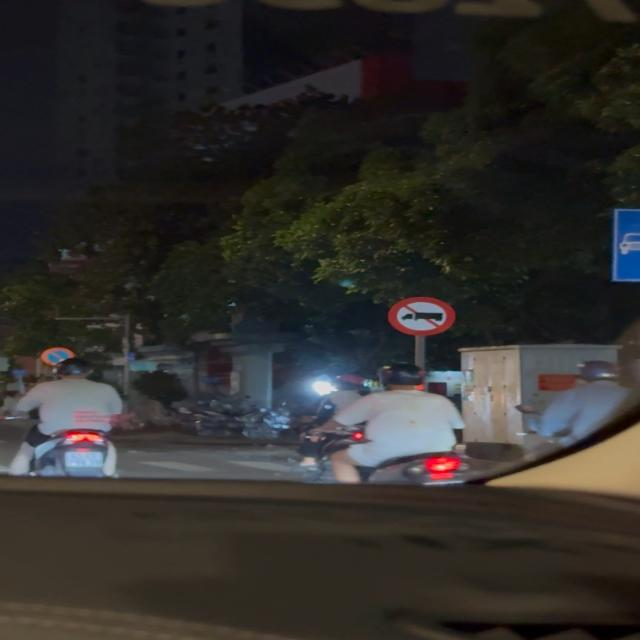Bien bao cam do xe: (39, 346, 78, 367)
Bien bao cam xe so-mi ro-mooc: (386, 295, 460, 339)
